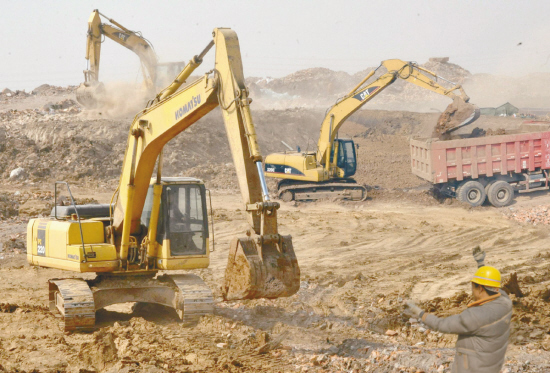excavator: (26, 27, 304, 344), (263, 58, 483, 208), (70, 1, 173, 110)
